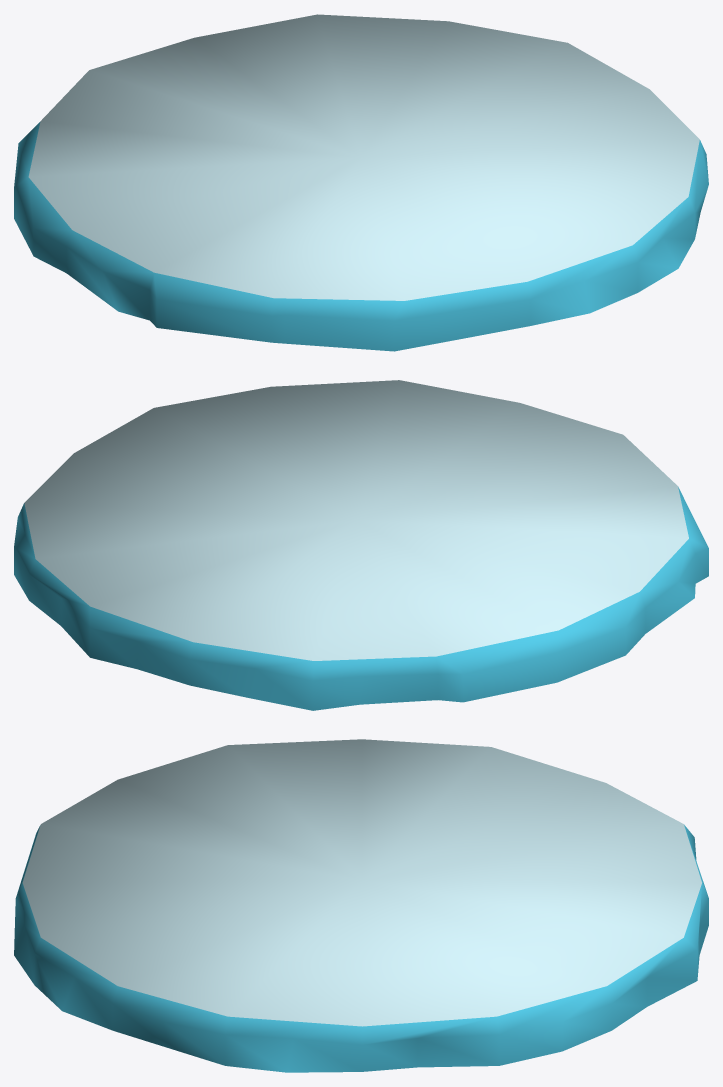
The model's file is banquise.FBX.
3 views of the same model, one above another, from view 1: azimuth 30°, elevation 25°; view 2: azimuth 150°, elevation 25°; view 3: azimuth 270°, elevation 25° (orthographic). The views are drawn at different scales.
Visible parts, largest first — view 1: Boîte001; view 2: Boîte001; view 3: Boîte001.
Boxes of the visible parts, bbox=[...] form: Boîte001: bbox=[14, 14, 708, 351]; Boîte001: bbox=[14, 380, 708, 710]; Boîte001: bbox=[14, 739, 708, 1072].
Bounding box in the file's own units: 1031 × 75.71 × 1023.
